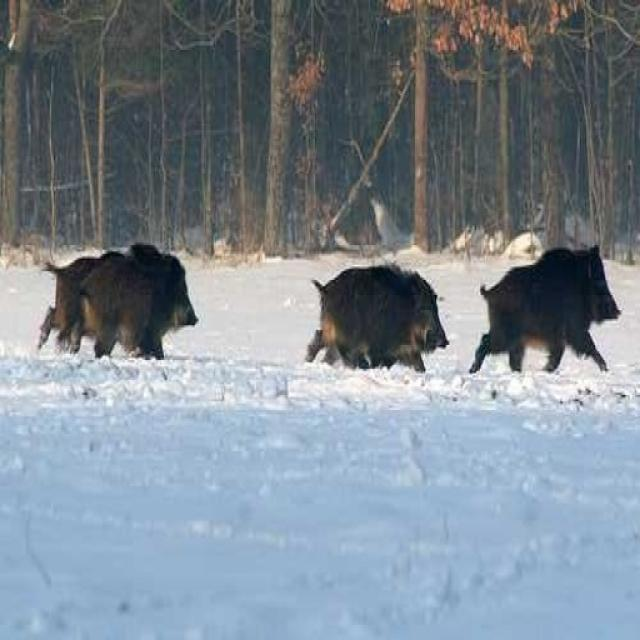pig: (468, 244, 626, 417), (57, 230, 212, 397), (305, 257, 455, 403)
